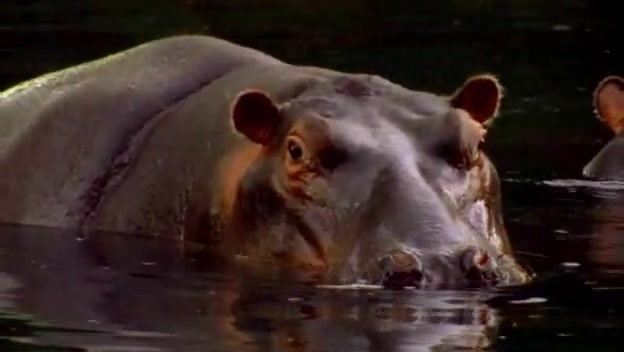hipopotamo: (1, 25, 537, 299)
